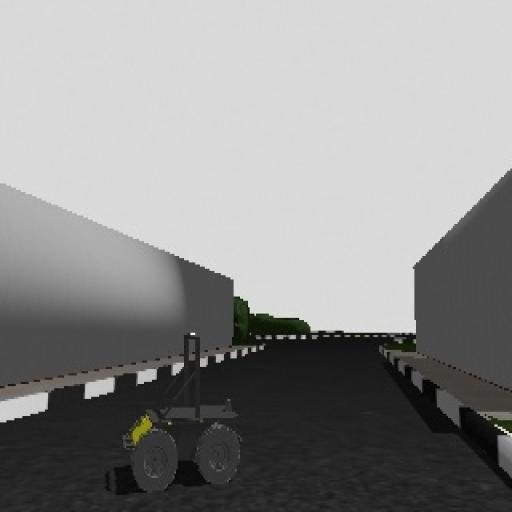huskya200: (107, 329, 248, 486)
